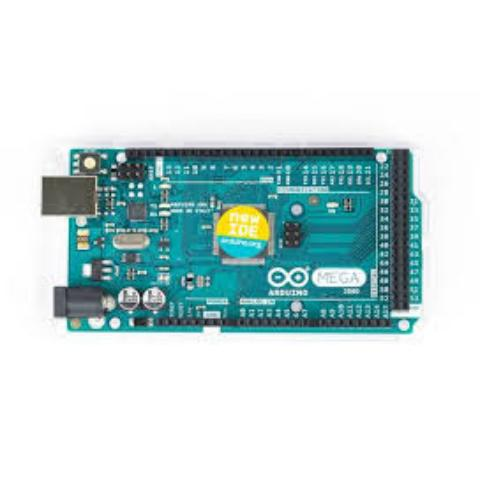Arduino-Mega: (33, 138, 438, 344)
